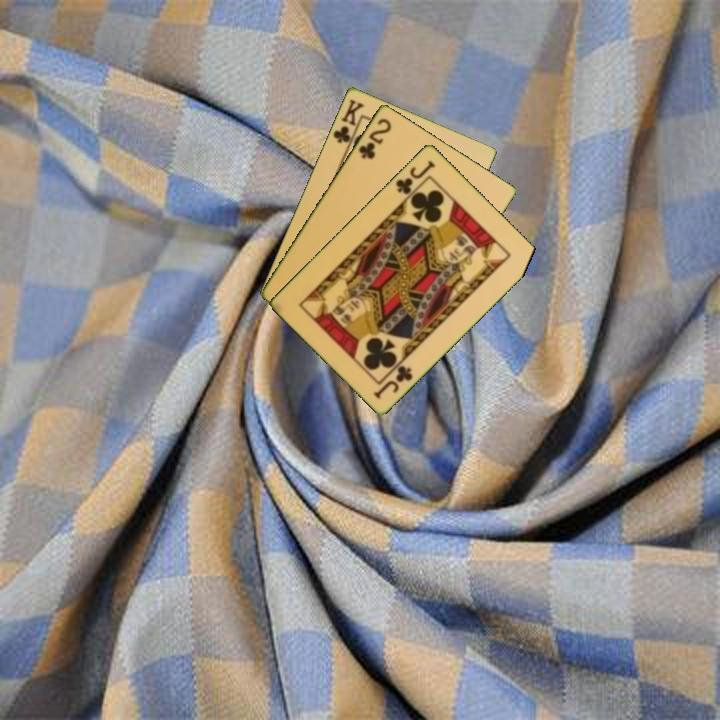2c: (355, 114, 394, 162)
Jc: (392, 156, 438, 197), (370, 361, 416, 402)
Kc: (329, 95, 367, 151)
